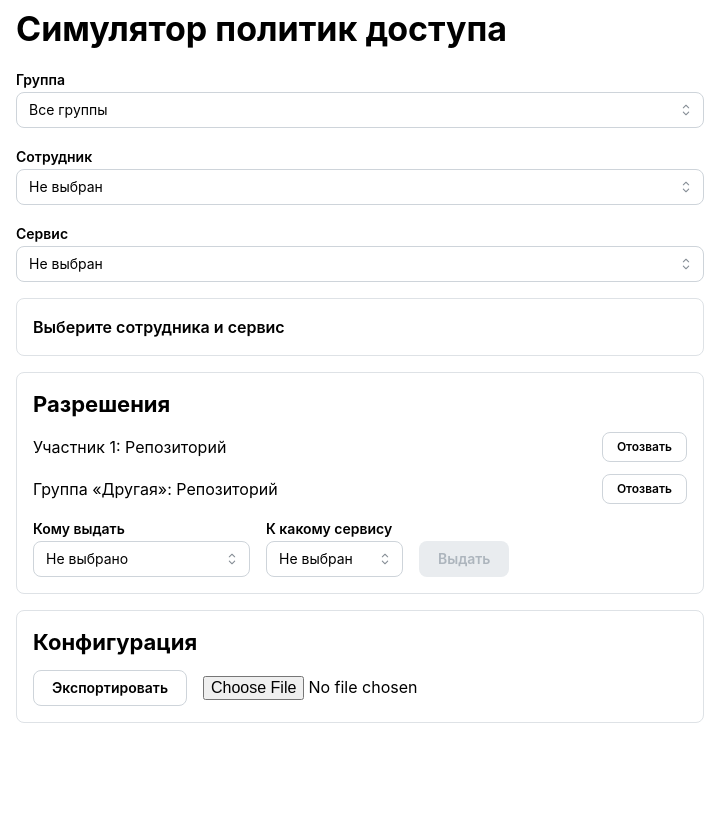
Test: экран расчёта доступа › сохраняет фильтр и выбранного сотрудника при выдаче и отзыве разрешений
Select "Северная" in the dropdown labelled "Группа": (360, 110) [16,92,704,128]
Select "Участник 1" in the dropdown with test id "user-select": (360, 187) [16,169,704,205]
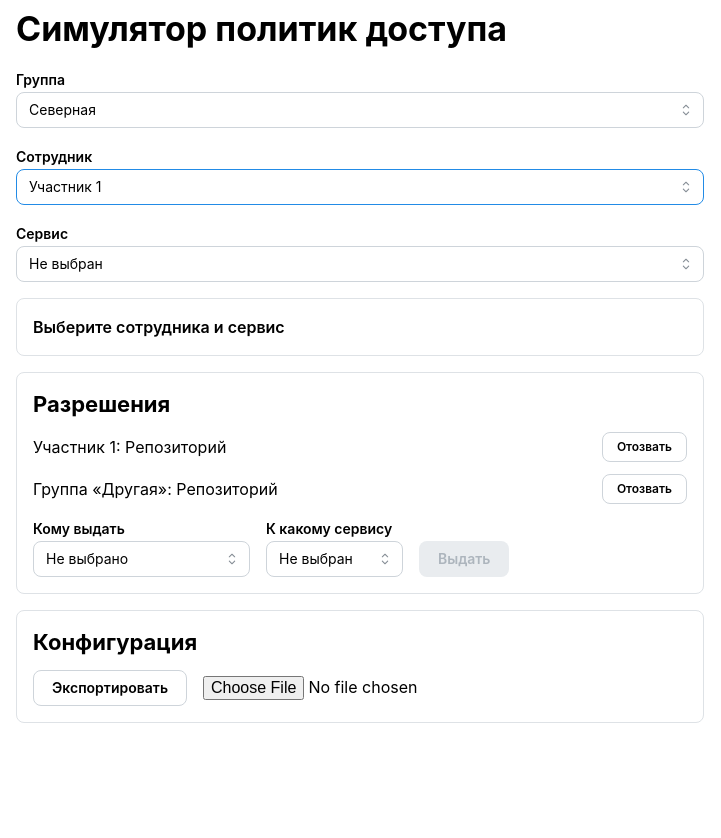
Select "Репозиторий" in the dropdown with test id "service-select": (360, 264) [16,246,704,282]
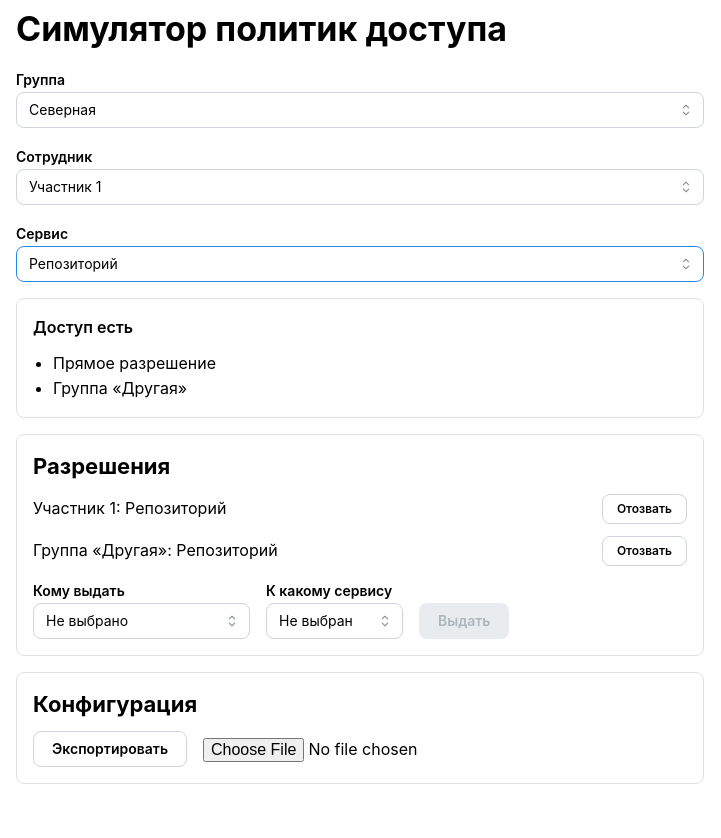
Click the button with test id "permission-remove-direct": (644, 509) [602,494,687,524]
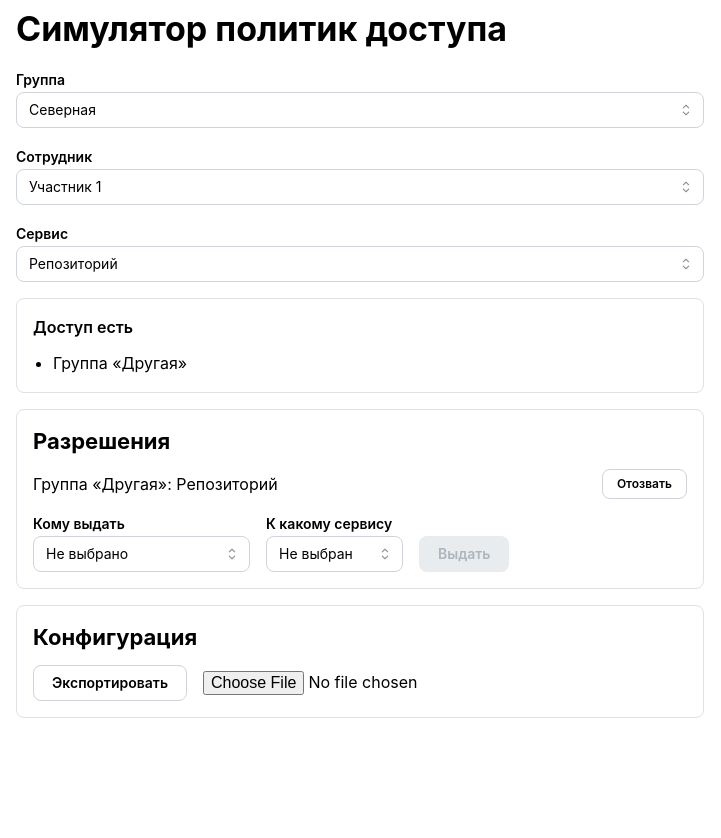
Check: the list with test id "access-sources" reads "Группа «Другая»", box [53,353,187,373]
Check: the list with test id "access-sources" no longer shows "Прямое разрешение", box [53,353,187,373]
Select "Участник 1" in the dropdown labelled "Кому выдать": (142, 554) [33,536,250,572]
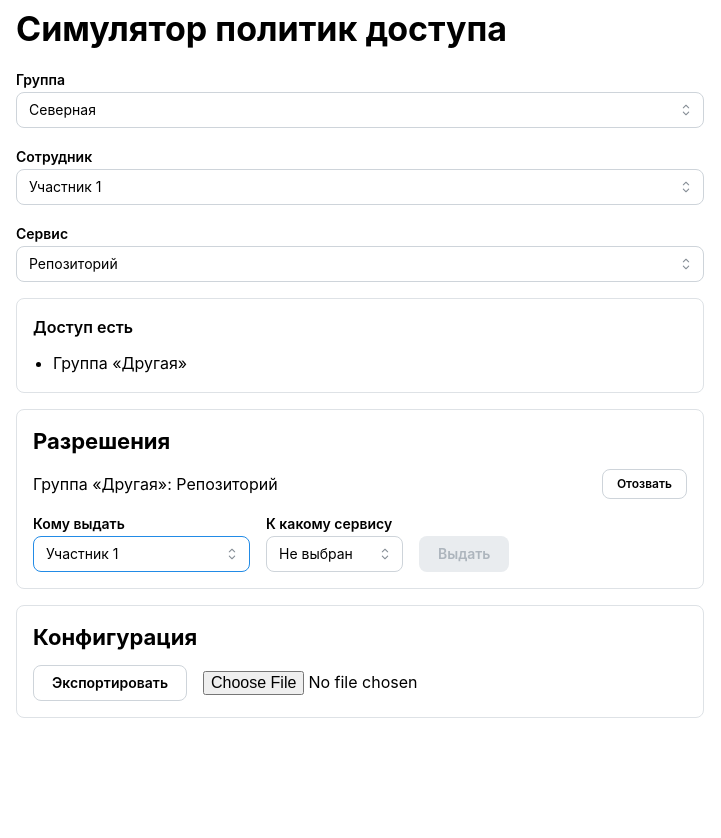
Select "Репозиторий" in the dropdown labelled "К какому сервису": (334, 554) [266,536,403,572]
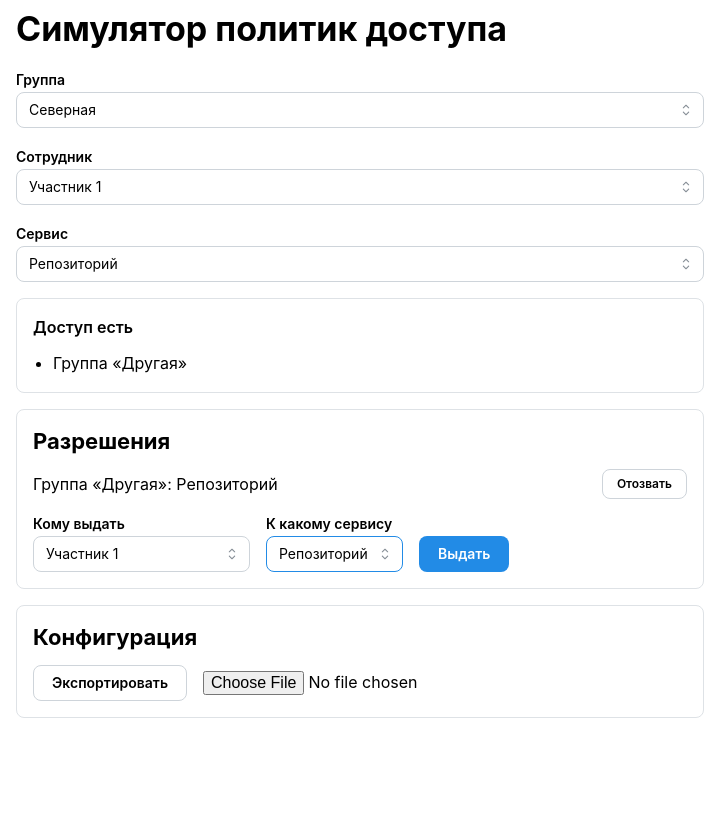
Click the button with test id "permission-add": (464, 554) [419,536,510,572]
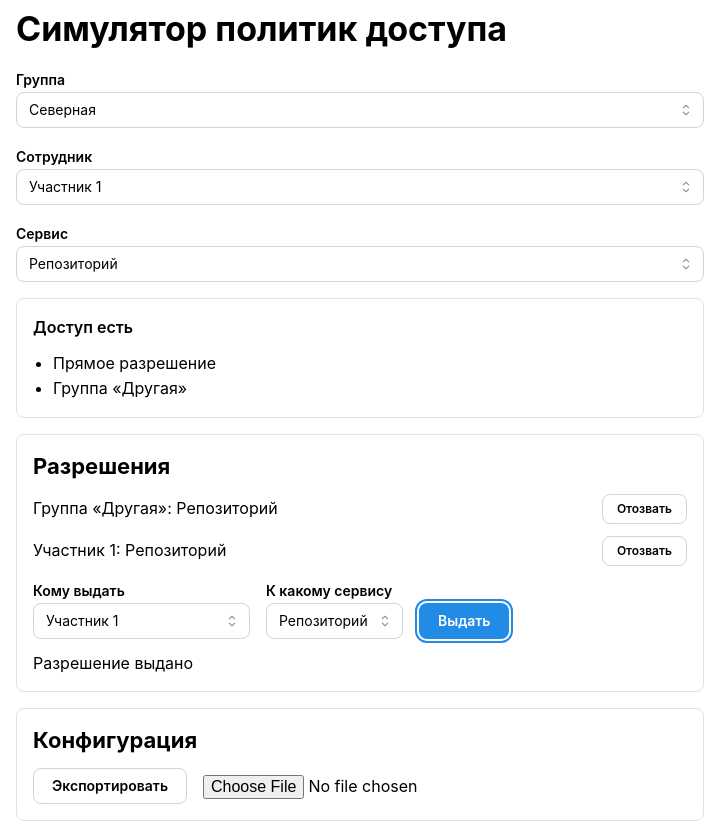
Check: the list with test id "access-sources" shows "Группа «Другая»", box [53,378,187,398]
Check: the list with test id "access-sources" shows "Прямое разрешение", box [53,353,216,373]
